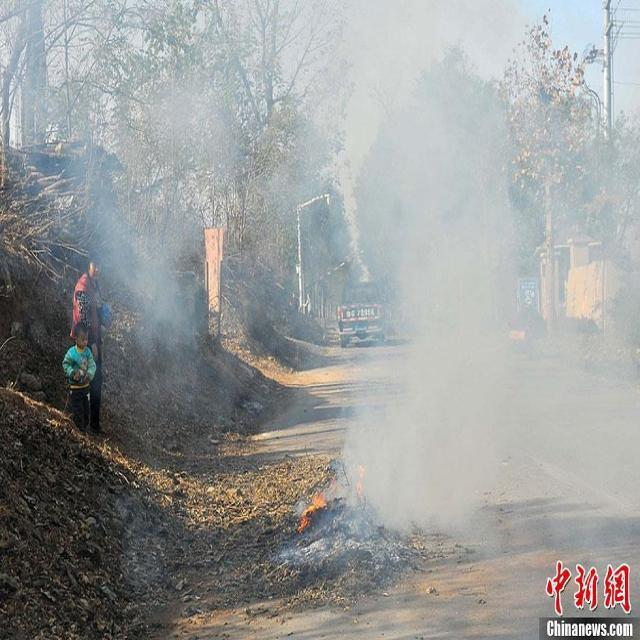Fire: (291, 475, 343, 533), (355, 458, 371, 509)
Smoke: (364, 236, 501, 489), (115, 226, 173, 316)
